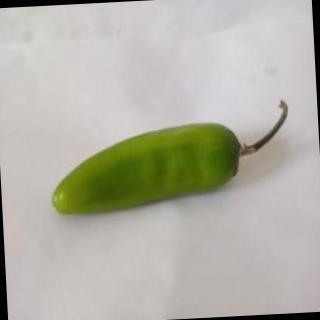Cabai Hijau: (43, 98, 298, 223)
